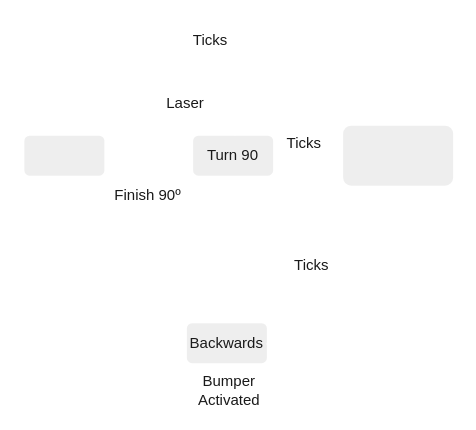
Image size: 476x430. Some labels were removed from this diagram. Here are the shapes that lost their labels. From the top down, the centre of each, then its label:
(63,155): Forward
(397,155): Random Duration Rotation
